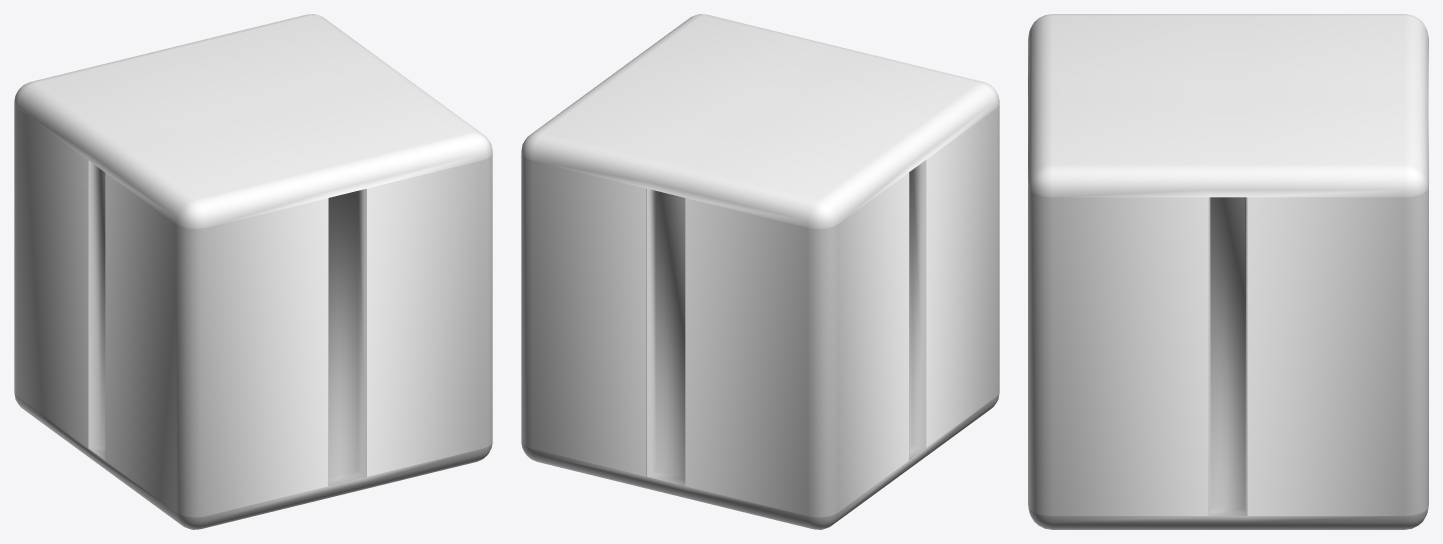
File: New Path block_2.fbx
The picture shows the model from 3 angles, left to right: view 1: azimuth 30°, elevation 25°; view 2: azimuth 150°, elevation 25°; view 3: azimuth 270°, elevation 25°; orthographic projection. The views are drawn at different scales.
Parts seen in each view (by area): view 1: Cube.002; view 2: Cube.002; view 3: Cube.002.
Part boxes in pixels (left/top/right/bottom): Cube.002: left=14, top=14, right=492, bottom=529; Cube.002: left=521, top=14, right=999, bottom=529; Cube.002: left=1028, top=14, right=1428, bottom=529.
Size of the model in its own units: 200 by 200 by 200.
1 material, 1 textured.
